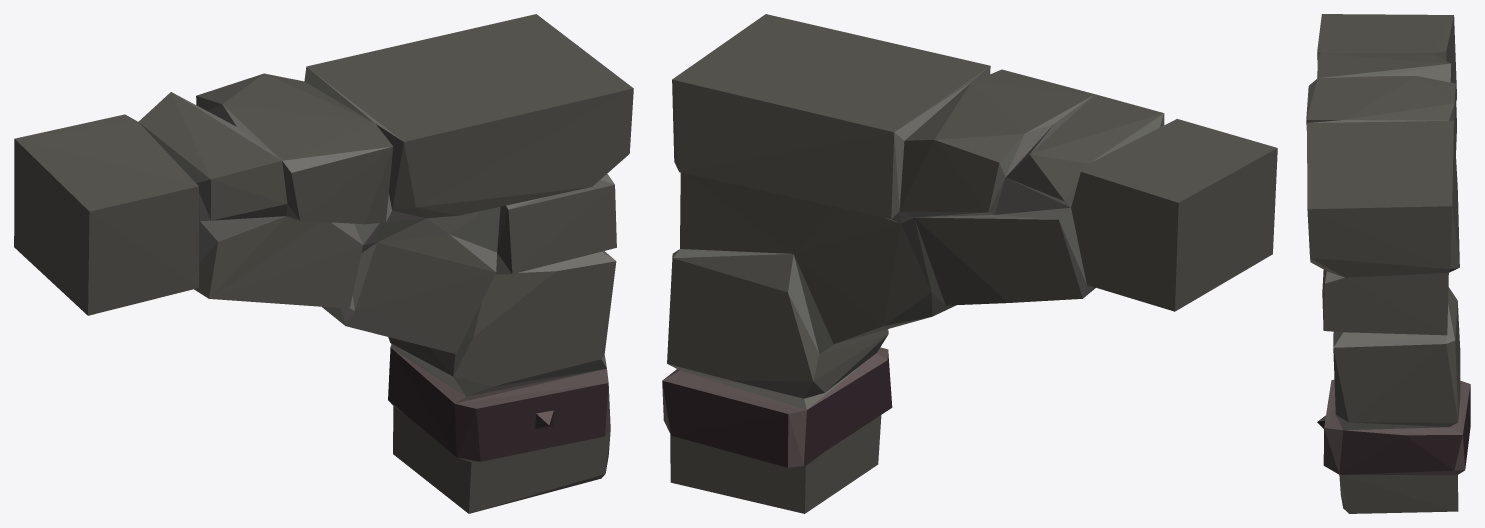
File: MDungeons_Arch_Half_01.FBX
3 views of the same model, side by side, from view 1: azimuth 30°, elevation 25°; view 2: azimuth 150°, elevation 25°; view 3: azimuth 270°, elevation 25° (orthographic). The views are drawn at different scales.
Visible parts, largest first — view 1: MDungeons_Arch_Half_01_LOD0; view 2: MDungeons_Arch_Half_01_LOD0; view 3: MDungeons_Arch_Half_01_LOD0.
Boxes of the visible parts, x1=… form: MDungeons_Arch_Half_01_LOD0: x1=14, y1=14, x2=633, y2=513; MDungeons_Arch_Half_01_LOD0: x1=662, y1=14, x2=1277, y2=513; MDungeons_Arch_Half_01_LOD0: x1=1306, y1=14, x2=1470, y2=513.
Size of what is drawn, in the model's own units: 3.02 by 2.27 by 1.06.
